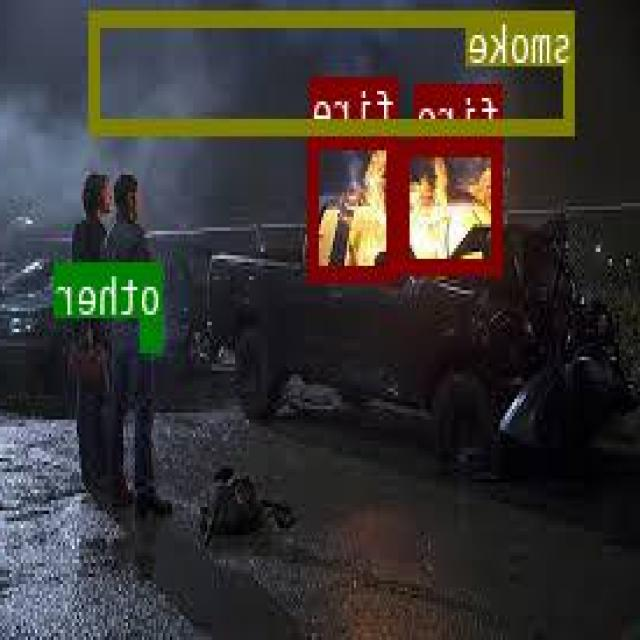fire: (401, 136, 505, 270), (312, 132, 400, 278)
other: (144, 317, 164, 349)
smoke: (92, 8, 577, 132)
